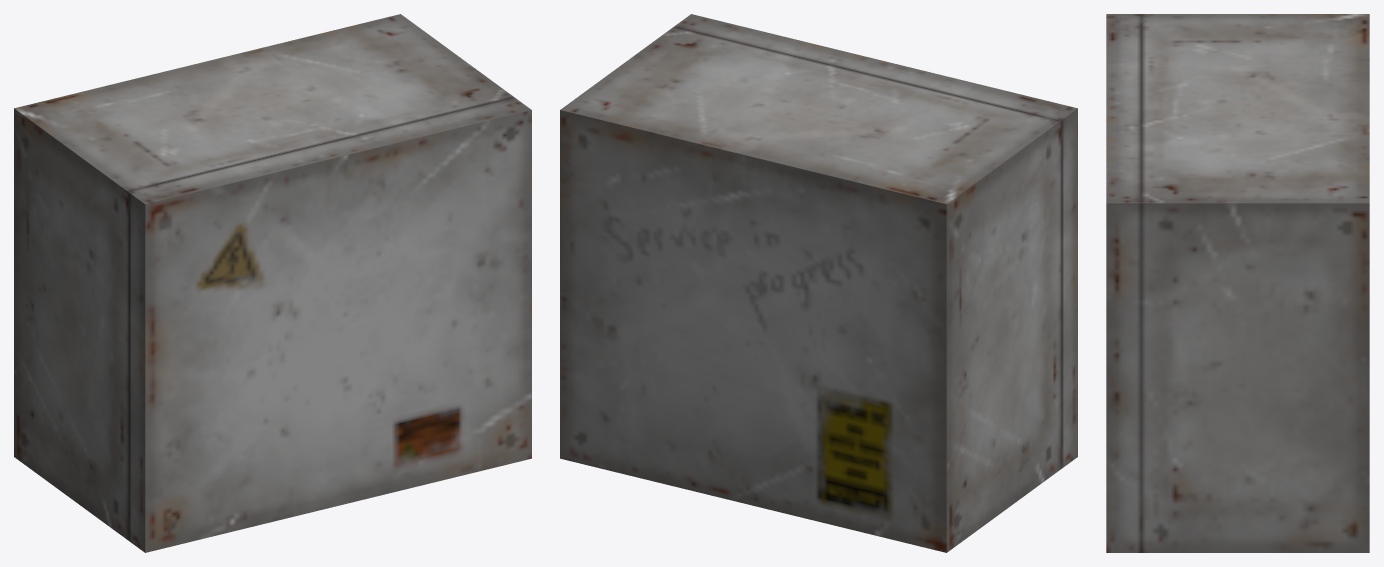
The model's file is Cable_07a_snaps011.fbx.
The picture shows the model from 3 angles, left to right: view 1: azimuth 30°, elevation 25°; view 2: azimuth 150°, elevation 25°; view 3: azimuth 270°, elevation 25°; orthographic projection.
Visible parts, largest first — view 1: Cable_07a_snaps011_LOD0; view 2: Cable_07a_snaps011_LOD0; view 3: Cable_07a_snaps011_LOD0.
Boxes of the visible parts, x1,y1,x2,y2 form: Cable_07a_snaps011_LOD0: [14, 14, 531, 552]; Cable_07a_snaps011_LOD0: [560, 14, 1077, 552]; Cable_07a_snaps011_LOD0: [1106, 14, 1369, 552].
Size of the model in its own units: 18.04 by 15.54 by 10.6.
